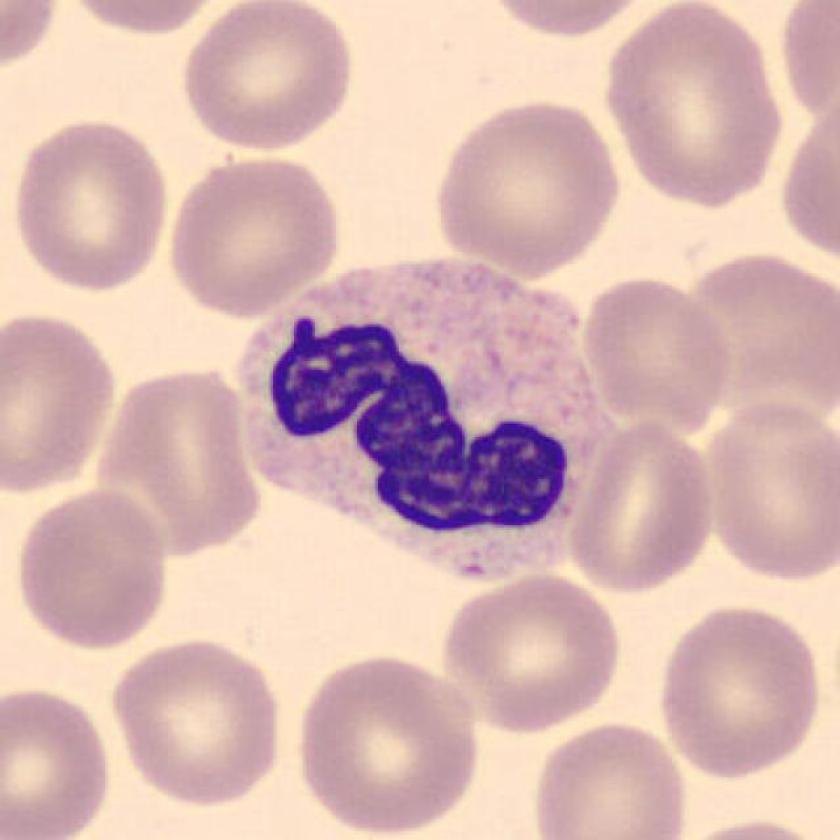neutrophil: (236, 261, 620, 581)
